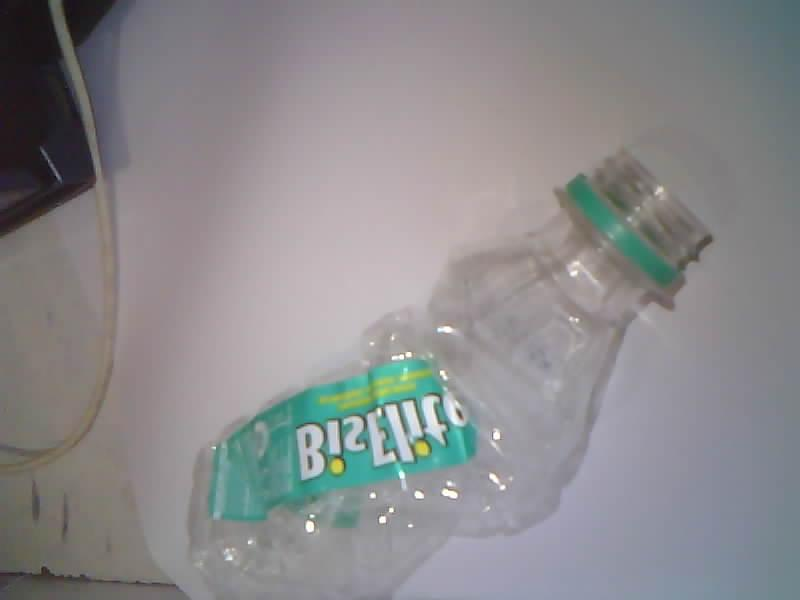non-biodegradable: (188, 152, 710, 599)
